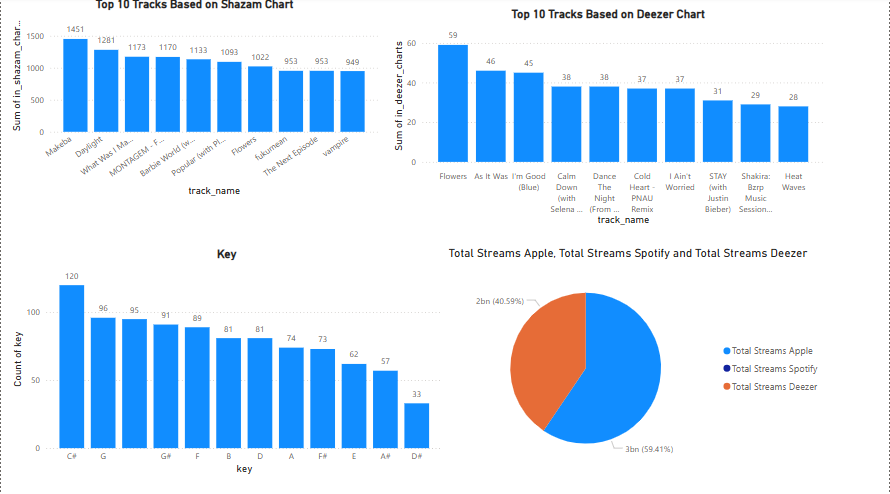

The page's visual inventory and layout, read from the dashboard file:
{"tool":"powerbi","page":{"name":"Page 3","canvas":[1280,720],"ordinal":2},"visuals":[{"type":"columnChart","title":"Top 10  Tracks Based on Shazam Chart","fields":{"Category":["spotify-2023.track_name"],"Y":["spotify-2023.in_shazam_charts"]},"box":[10.1,0,537.5,292.3],"z":0},{"type":"columnChart","title":"Top 10  Tracks Based on Deezer Chart","fields":{"Category":["spotify-2023.track_name"],"Y":["spotify-2023.in_deezer_charts"]},"box":[559.4,15.1,631.6,319.2],"z":1000},{"type":"clusteredColumnChart","title":"Key","fields":{"Category":["spotify-2023.key"],"Y":["spotify-2023.key"]},"box":[10.1,359.5,629.9,332.6],"z":2000},{"type":"pieChart","fields":{"Y":["spotify-2023.Total Streams Apple","spotify-2023.Total Streams Spotify","spotify-2023.Total Streams Deezer"]},"box":[640,359,551,333],"z":3000}]}

Visuals, with their boxes in screenshot pixels (x1, y1, x2, y2), scaled from the page's 1280x720 canvas onto the 890x494 screenshot:
"Top 10  Tracks Based on Shazam Chart" columnChart: (x1=7, y1=0, x2=381, y2=201)
"Top 10  Tracks Based on Deezer Chart" columnChart: (x1=389, y1=10, x2=828, y2=229)
"Key" clusteredColumnChart: (x1=7, y1=247, x2=445, y2=475)
pieChart - spotify-2023.Total Streams Apple x spotify-2023.Total Streams Spotify: (x1=445, y1=246, x2=828, y2=475)
